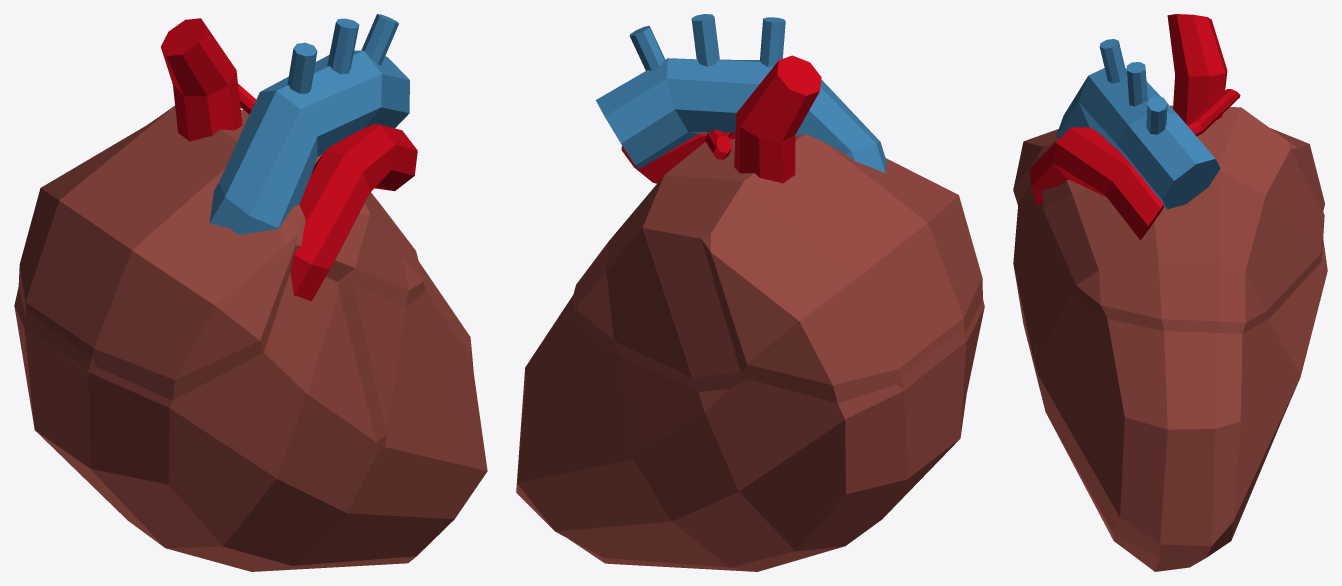
File: Heart.fbx
The picture shows the model from 3 angles, left to right: view 1: azimuth 30°, elevation 25°; view 2: azimuth 150°, elevation 25°; view 3: azimuth 270°, elevation 25°; orthographic projection. The views are drawn at different scales.
Parts seen in each view (by area): view 1: Cube, Cylinder, Cylinder.001, Cylinder.002, Cylinder.005, Cylinder.004, Cylinder.006; view 2: Cube, Cylinder, Cylinder.002, Cylinder.001, Cylinder.005, Cylinder.004, Cylinder.006, Cylinder.003; view 3: Cube, Cylinder, Cylinder.001, Cylinder.002, Cylinder.003, Cylinder.004, Cylinder.005, Cylinder.006.
Boxes of the visible parts, x1,y1,x2,y2 form: Cube: [14, 105, 487, 571]; Cylinder: [209, 50, 409, 234]; Cylinder.001: [290, 124, 417, 301]; Cylinder.002: [161, 18, 242, 141]; Cylinder.005: [327, 18, 359, 74]; Cylinder.004: [287, 42, 317, 93]; Cylinder.006: [361, 14, 398, 65]; Cube: [516, 134, 984, 571]; Cylinder: [596, 58, 886, 172]; Cylinder.002: [734, 55, 821, 183]; Cylinder.001: [621, 132, 735, 183]; Cylinder.005: [691, 14, 719, 66]; Cylinder.004: [759, 17, 785, 66]; Cylinder.006: [629, 25, 665, 70]; Cylinder.003: [705, 129, 733, 159]; Cube: [1013, 105, 1327, 571]; Cylinder: [1055, 68, 1220, 209]; Cylinder.001: [1029, 127, 1164, 240]; Cylinder.002: [1167, 14, 1227, 124]; Cylinder.003: [1186, 89, 1240, 136]; Cylinder.004: [1099, 39, 1126, 83]; Cylinder.005: [1126, 62, 1147, 106]; Cylinder.006: [1146, 96, 1167, 134].
Size of the model in its own units: 195 by 256 by 152.
